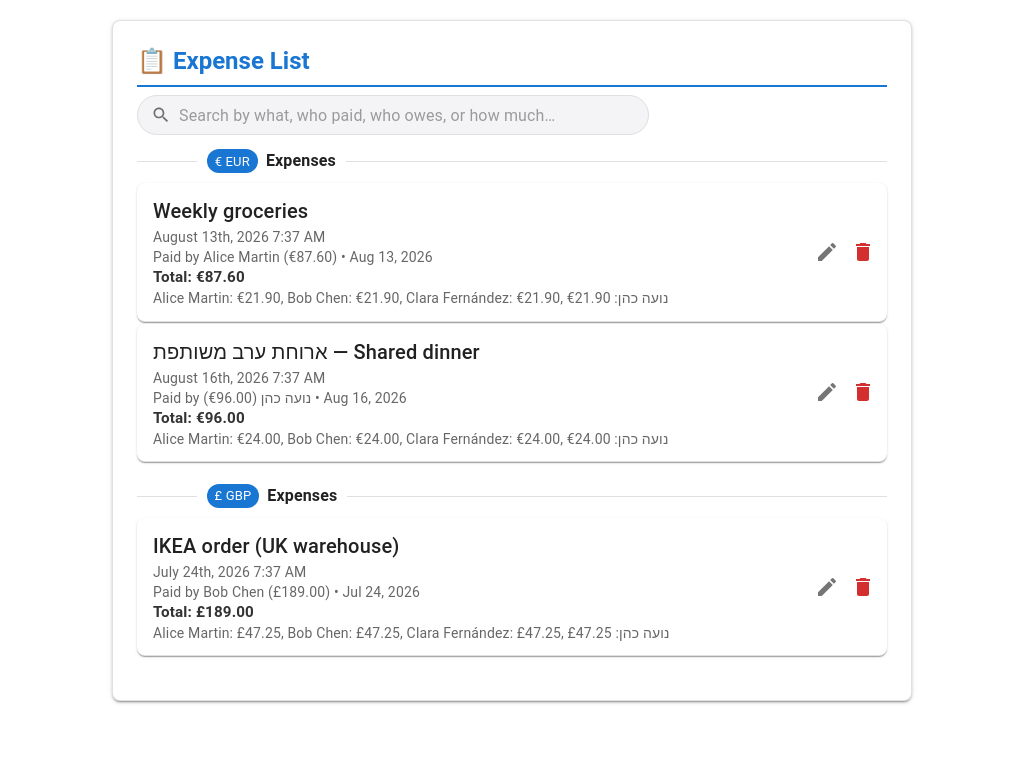
Test: ExpenseList search › matches anyone involved, as payer or as ower
Click the field named "Search expenses". click: click(391, 115)
box: [179,95,602,135]
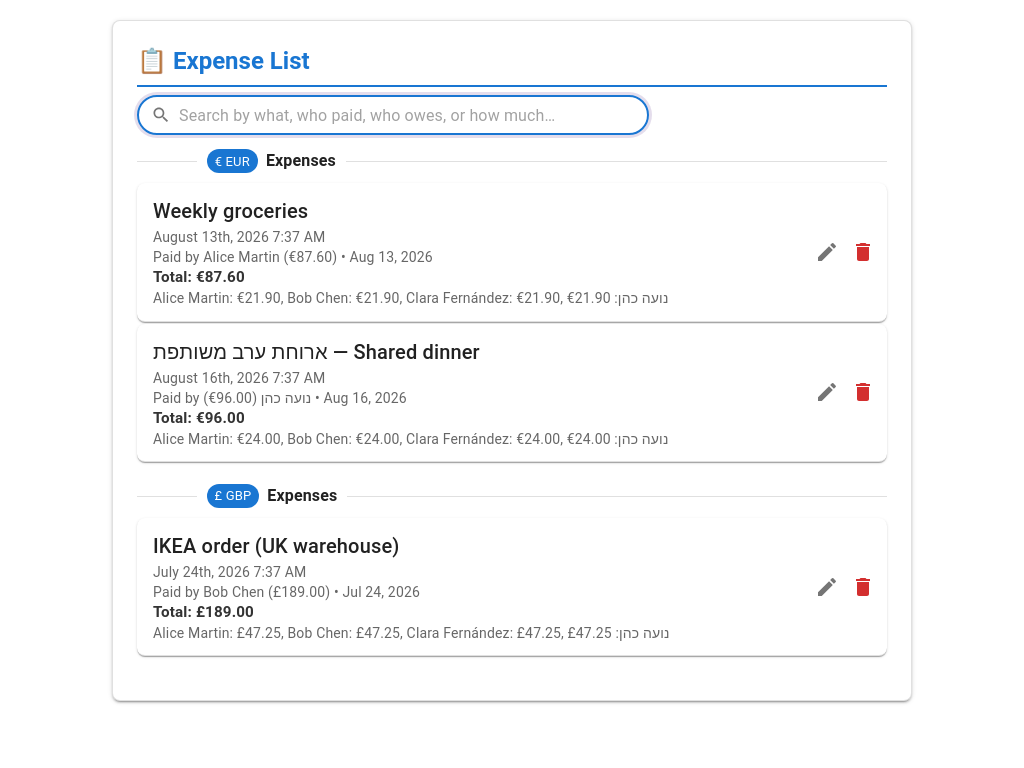
Type keys "bob"
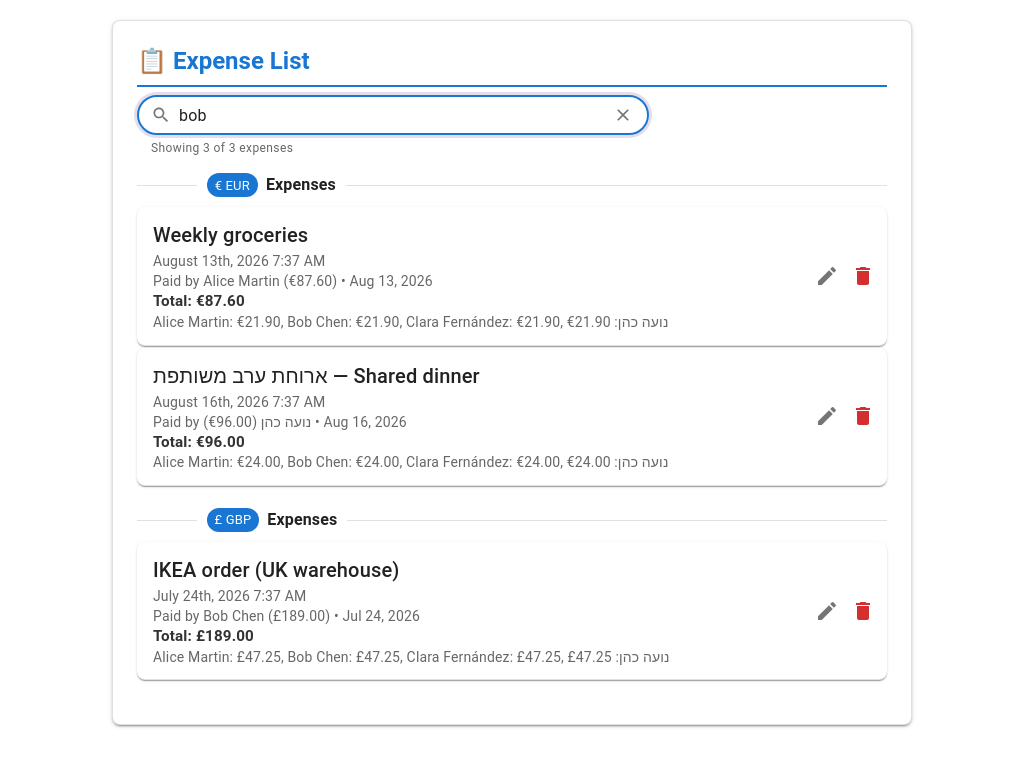
expect the text "Showing 3 of 3 expenses" is shown: met, box [151,141,293,155]
